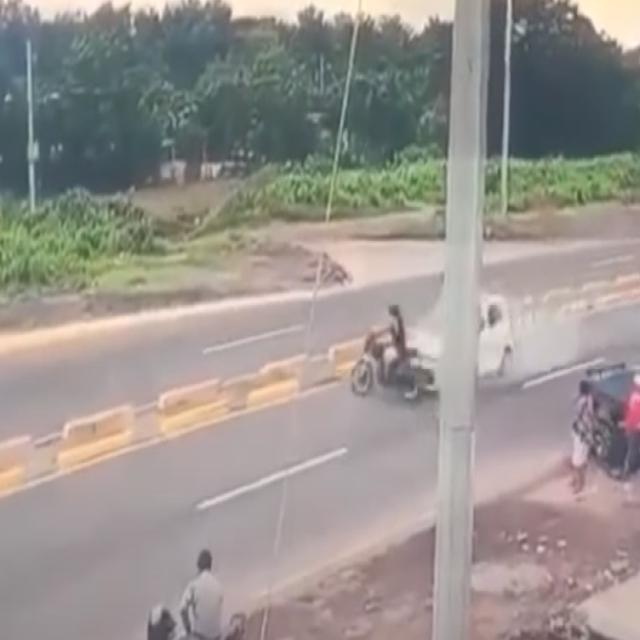accident: (344, 285, 512, 405)
